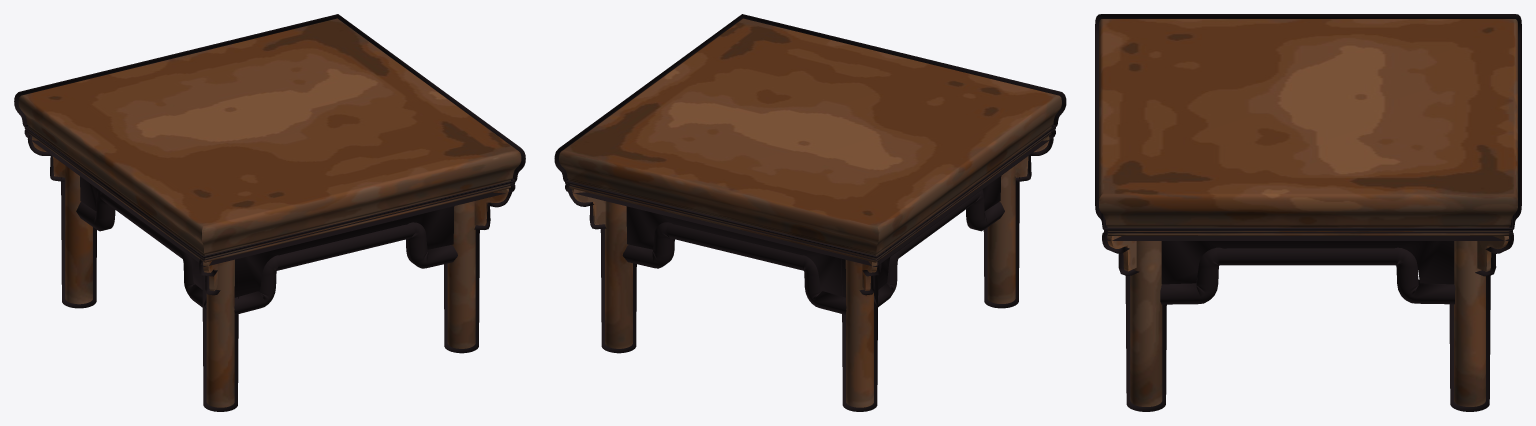
File: SM_Int_LowTable.fbx
3 renders of one model, left to right at view 1: azimuth 30°, elevation 25°; view 2: azimuth 150°, elevation 25°; view 3: azimuth 270°, elevation 25°, orthographic. The views are drawn at different scales.
Parts seen in each view (by area): view 1: SM_Int_LowTable; view 2: SM_Int_LowTable; view 3: SM_Int_LowTable.
Part boxes in pixels (<box>): SM_Int_LowTable: <box>14,14,525,411</box>; SM_Int_LowTable: <box>554,14,1066,411</box>; SM_Int_LowTable: <box>1095,14,1521,411</box>.
Size of what is drawn, in the model's own units: 0.6525 by 0.3958 by 0.6481.
